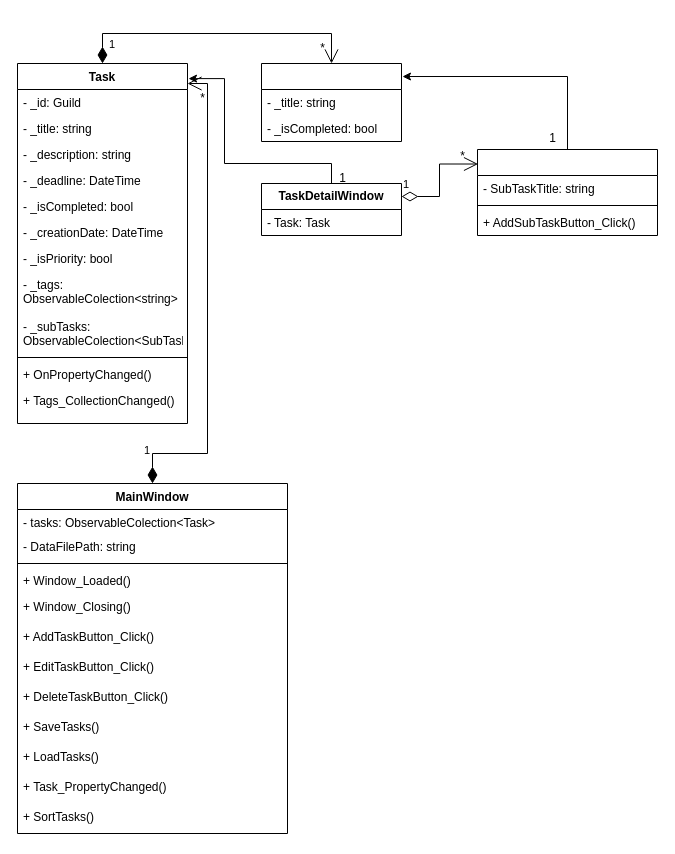
Some shapes in this 675 by 854 pixel diagram are drawn without their labels. Here are the shapes that lost their labels. From the top down, the box of each, then its label:
(260, 62, 402, 142): SubTask
(476, 148, 658, 236): SubTaskWindow
